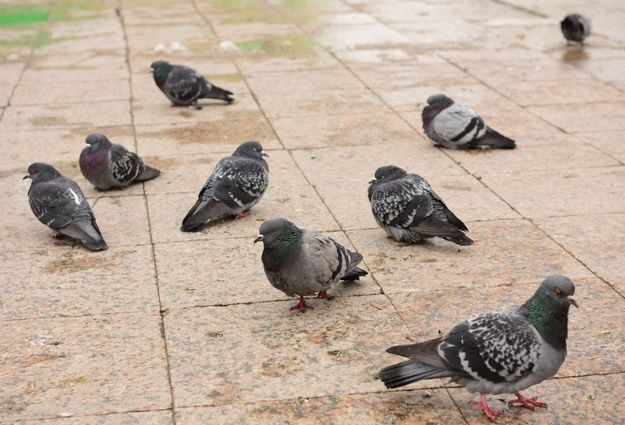dove: (372, 273, 579, 423), (254, 220, 372, 317), (365, 167, 476, 252), (180, 138, 271, 234), (21, 163, 111, 254), (417, 94, 520, 155), (147, 58, 235, 112), (79, 135, 160, 193), (559, 14, 594, 51)
